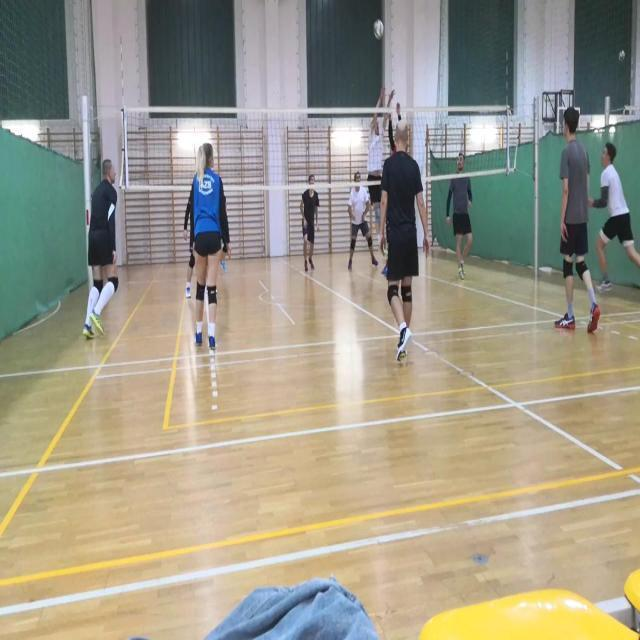volleyball: (374, 20, 384, 40)
